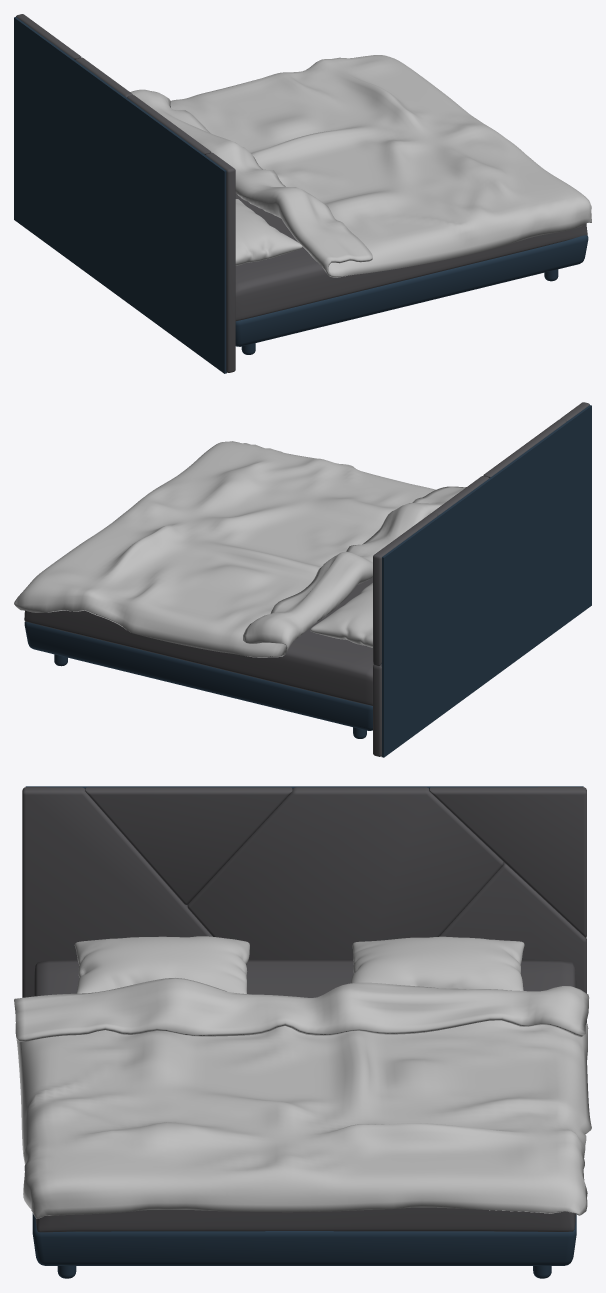
Rendered from grey-cushion-double-bed-4b029e12-857e-4ab4-9d5e-076277a164dd.glb.
3 views of the same model, one above another, from view 1: azimuth 30°, elevation 25°; view 2: azimuth 150°, elevation 25°; view 3: azimuth 270°, elevation 25° (orthographic). The views are drawn at different scales.
Parts seen in each view (by area): view 1: matress, bed.004, bed.001, bed.005, matress.001; view 2: matress, bed.004, bed.001, bed.005, matress.001; view 3: matress, bed.005, bed.001, matress.001, bed.004.
Boxes of the visible parts, <box> form: matress: <box>130,55,591,320</box>; bed.004: <box>14,17,226,373</box>; bed.001: <box>235,235,588,346</box>; bed.005: <box>16,14,235,372</box>; matress.001: <box>235,199,302,265</box>; matress: <box>14,441,466,705</box>; bed.004: <box>381,405,591,757</box>; bed.001: <box>24,621,372,730</box>; bed.005: <box>373,402,589,756</box>; matress.001: <box>310,583,372,647</box>; matress: <box>14,959,591,1232</box>; bed.005: <box>22,787,586,1022</box>; bed.001: <box>32,1212,576,1265</box>; matress.001: <box>74,936,524,993</box>; bed.004: <box>25,786,583,788</box>.
Size of the model in its own units: 1.93 by 0.9977 by 1.94.
